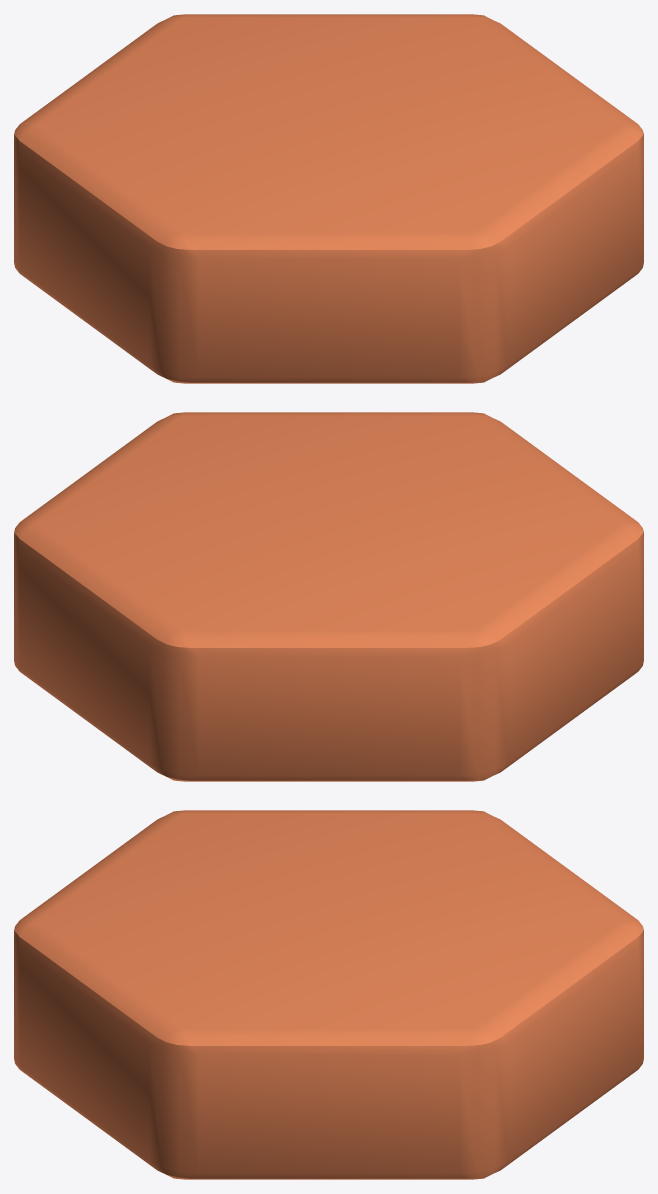
File: BeveledHexagon.fbx
3 views of the same model, one above another, from view 1: azimuth 30°, elevation 25°; view 2: azimuth 150°, elevation 25°; view 3: azimuth 270°, elevation 25° (orthographic).
Visible parts, largest first — view 1: Hexagon; view 2: Hexagon; view 3: Hexagon.
Boxes of the visible parts, left/top/right/bottom form: Hexagon: left=14, top=14, right=643, bottom=383; Hexagon: left=14, top=412, right=643, bottom=781; Hexagon: left=14, top=810, right=643, bottom=1179.
Size of the model in its own units: 173 by 50 by 193.
